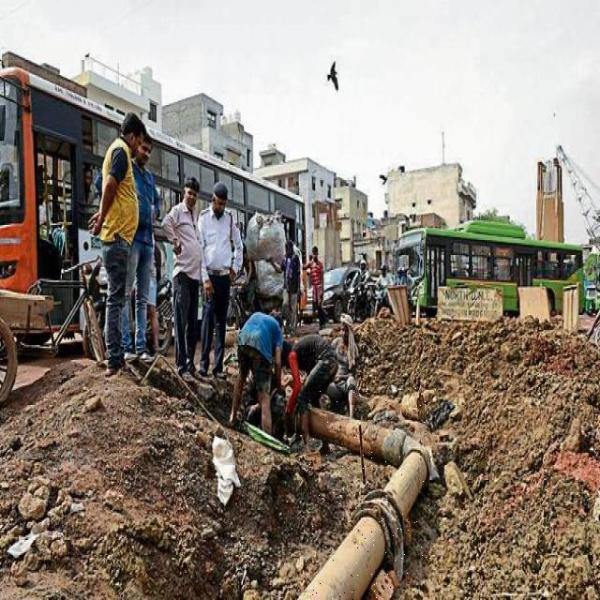no leak: (326, 539, 398, 577)
